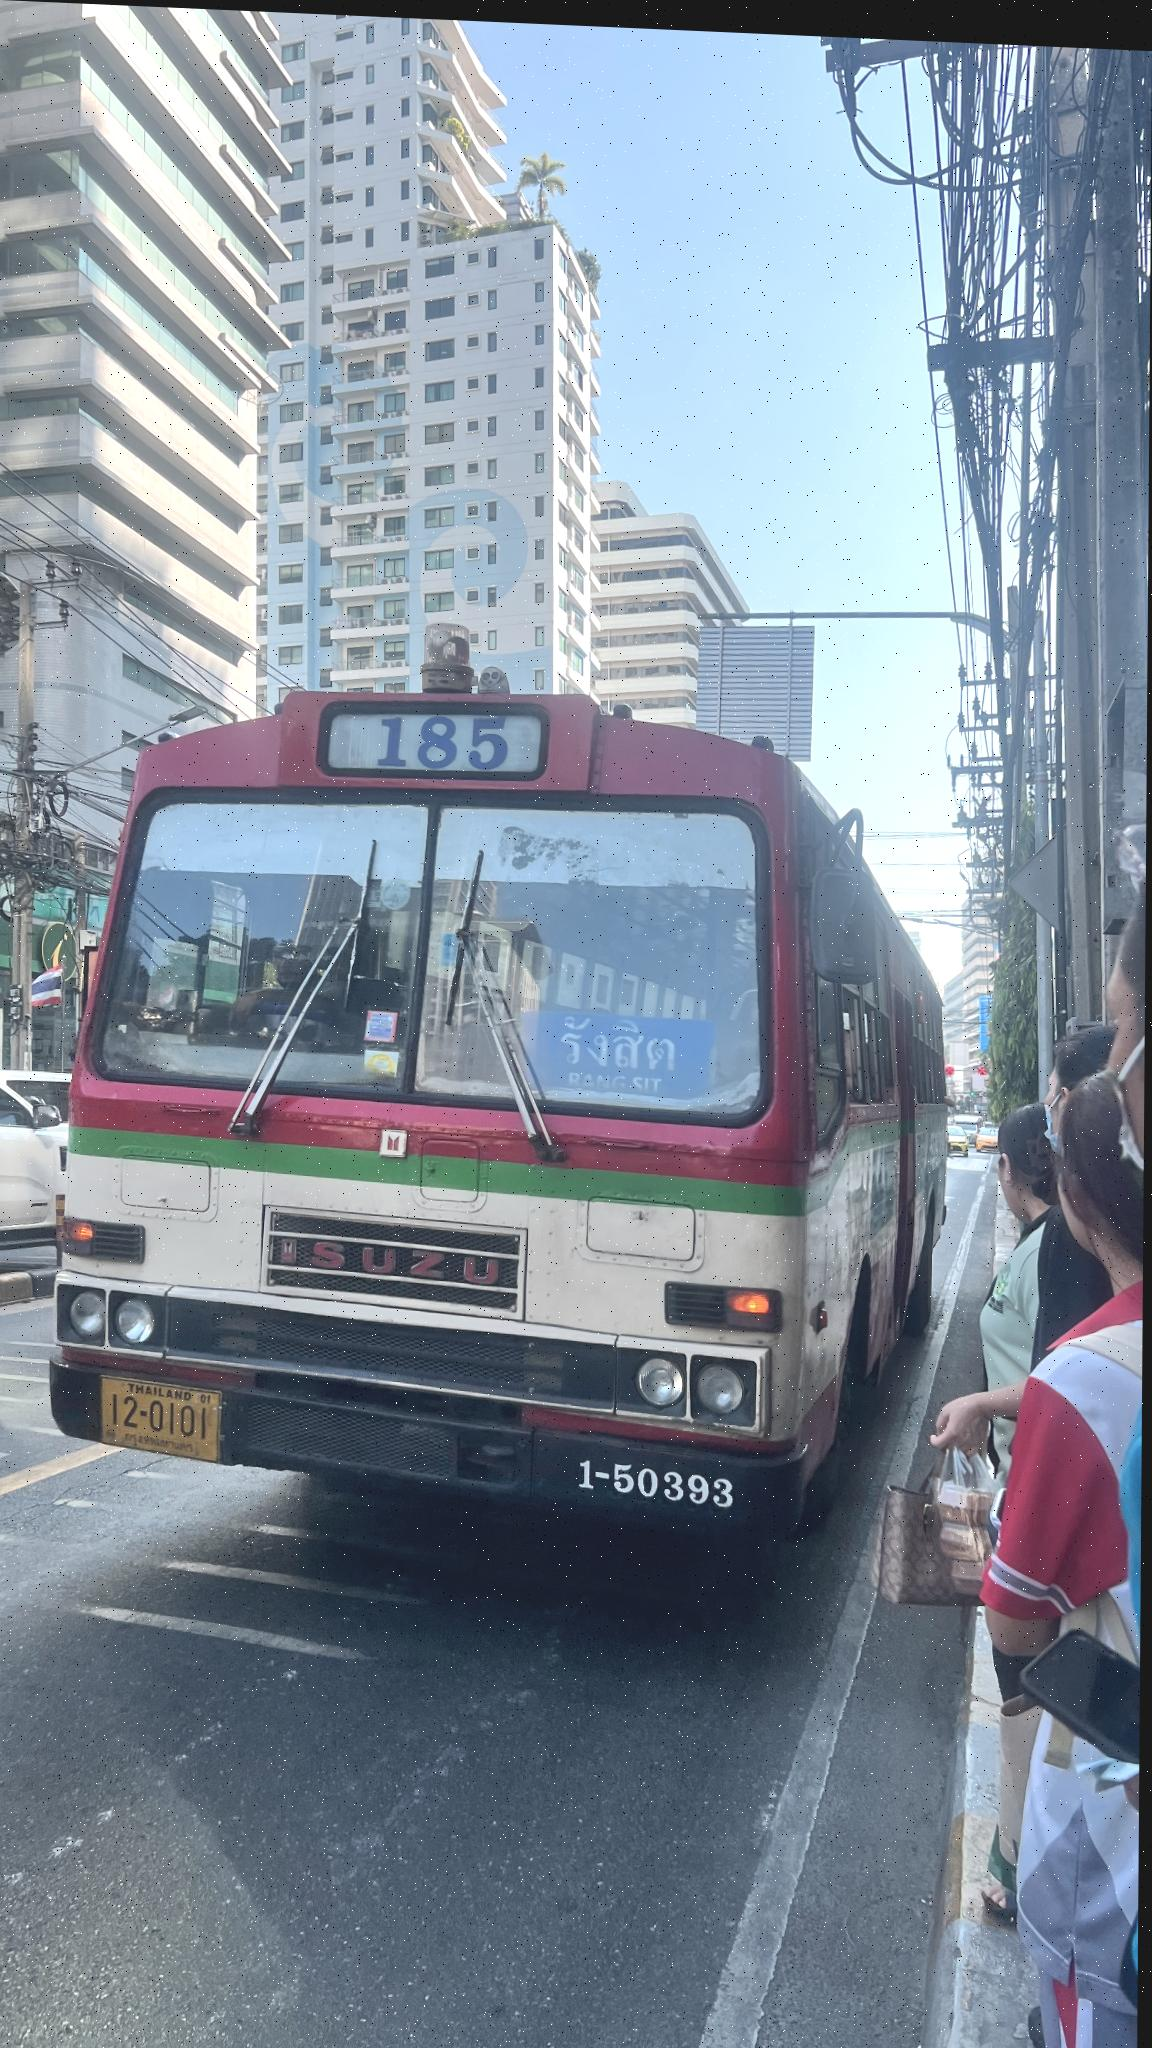BMTA-bus: (48, 675, 951, 1543)
Bus Line Number: (324, 693, 551, 783)
Bus Side Number: (554, 1443, 765, 1519)
Destination Sign: (530, 996, 715, 1103)
